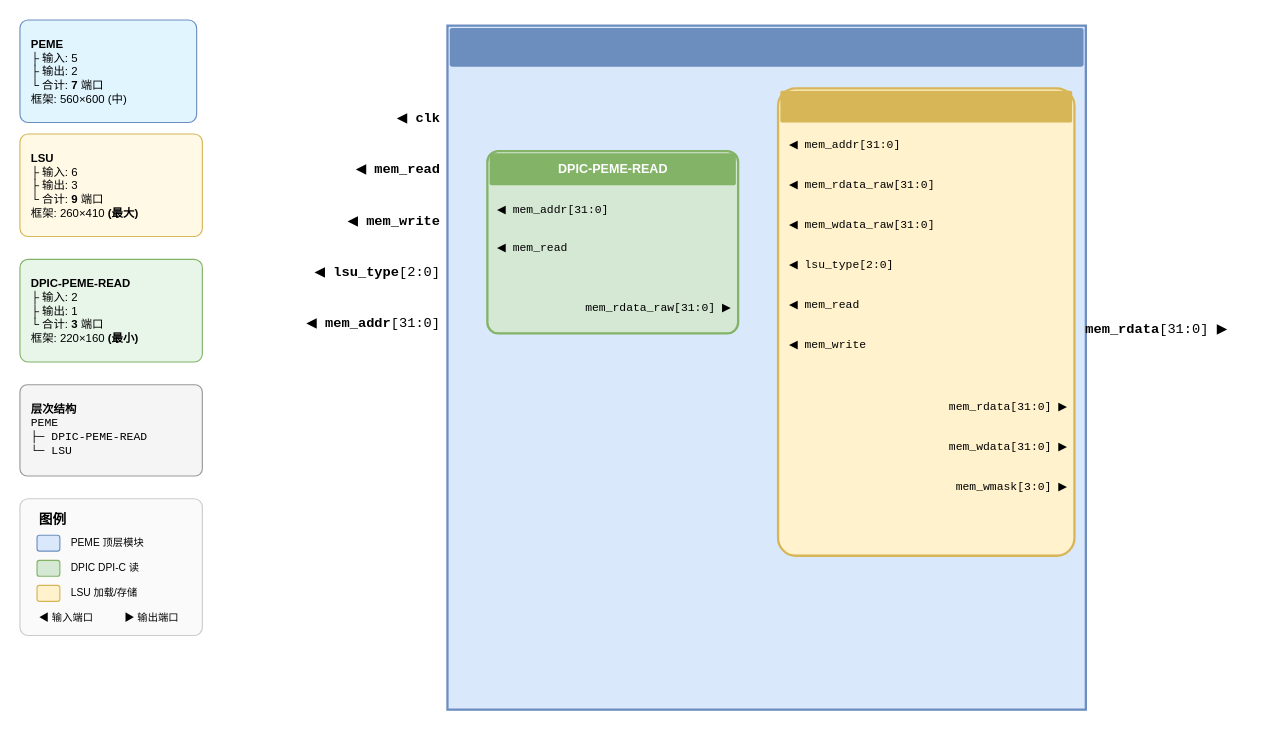
This 1269x731 diagram has some shape labels left out. The box of each missing label's shape, as (x1, y1, x2, y2) in pixels:
LSU: (780, 90, 1072, 122)
PEME: (449, 27, 1083, 66)
